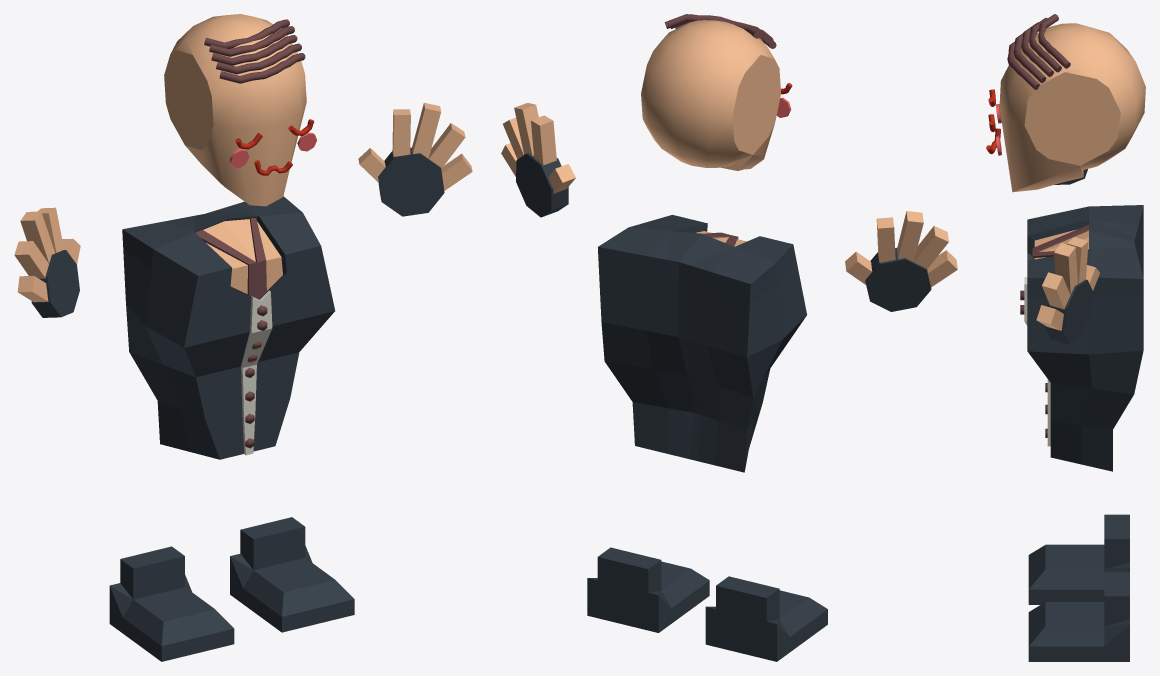
Rendered from NPC_Armature.fbx.
The picture shows the model from 3 angles, left to right: view 1: azimuth 30°, elevation 25°; view 2: azimuth 150°, elevation 25°; view 3: azimuth 270°, elevation 25°; orthographic projection. The views are drawn at different scales.
Visible parts, largest first — view 1: SK_Npc; view 2: SK_Npc; view 3: SK_Npc.
Part boxes in pixels (x1,y1,x2,y2): SK_Npc: [14, 14, 472, 661]; SK_Npc: [501, 14, 957, 661]; SK_Npc: [986, 14, 1145, 661].
Bounding box in the file's own units: 135 × 169 × 41.7.
